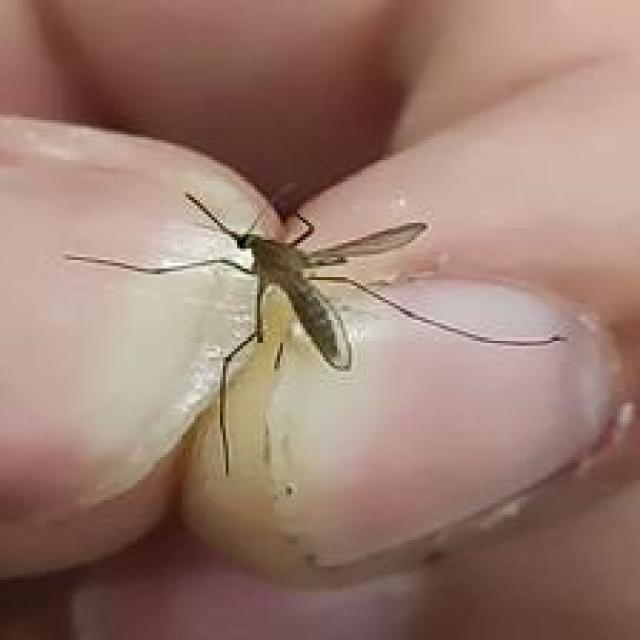Culex: (62, 184, 567, 476)
